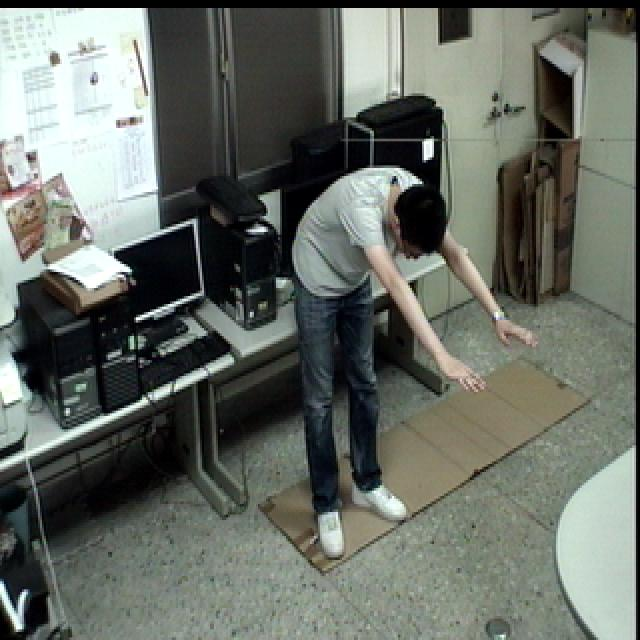bend: (286, 163, 540, 565)
